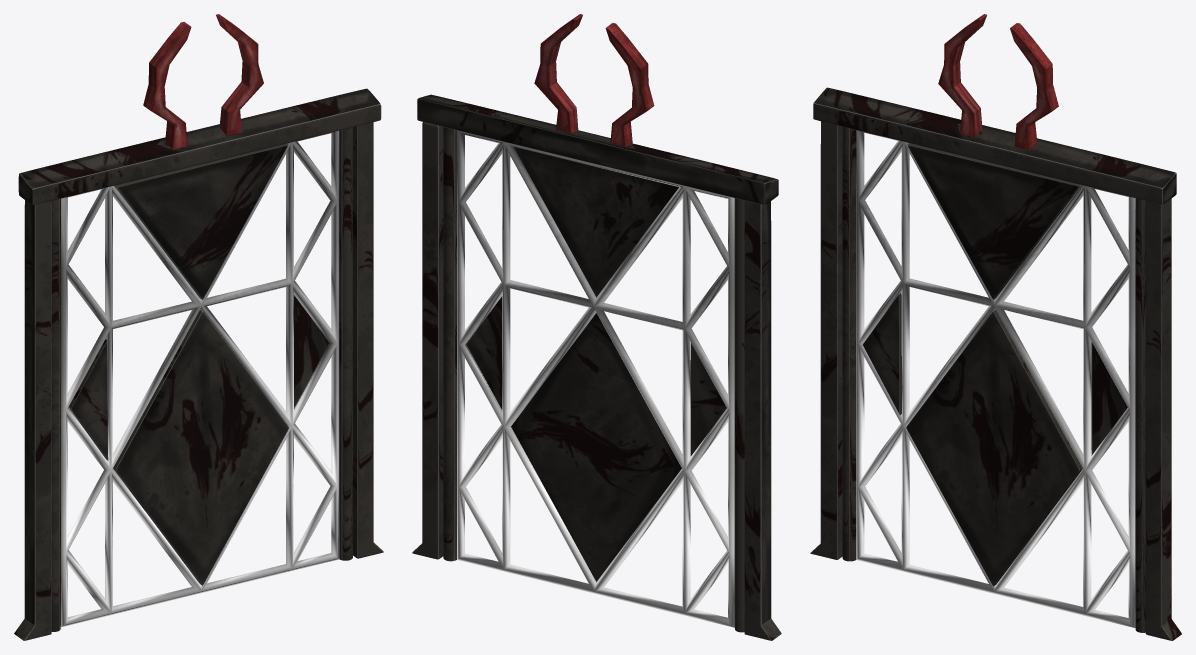
The model's file is Puerta.fbx.
3 renders of one model, left to right at view 1: azimuth 30°, elevation 25°; view 2: azimuth 150°, elevation 25°; view 3: azimuth 330°, elevation 25°, orthographic.
Parts seen in each view (by area): view 1: Marcos, Rejas, Cuerno1; view 2: Marcos, Rejas, Cuerno1; view 3: Marcos, Rejas, Cuerno1.
Boxes of the visible parts, <box> form: Marcos: <box>14,88,383,640</box>; Rejas: <box>60,131,339,627</box>; Cuerno1: <box>143,14,263,149</box>; Marcos: <box>412,94,781,640</box>; Rejas: <box>457,130,734,627</box>; Cuerno1: <box>534,14,654,146</box>; Marcos: <box>810,87,1181,640</box>; Rejas: <box>856,130,1135,627</box>; Cuerno1: <box>938,14,1058,150</box>.
Bounding box in the file's own units: 265 × 401 × 18.4.
